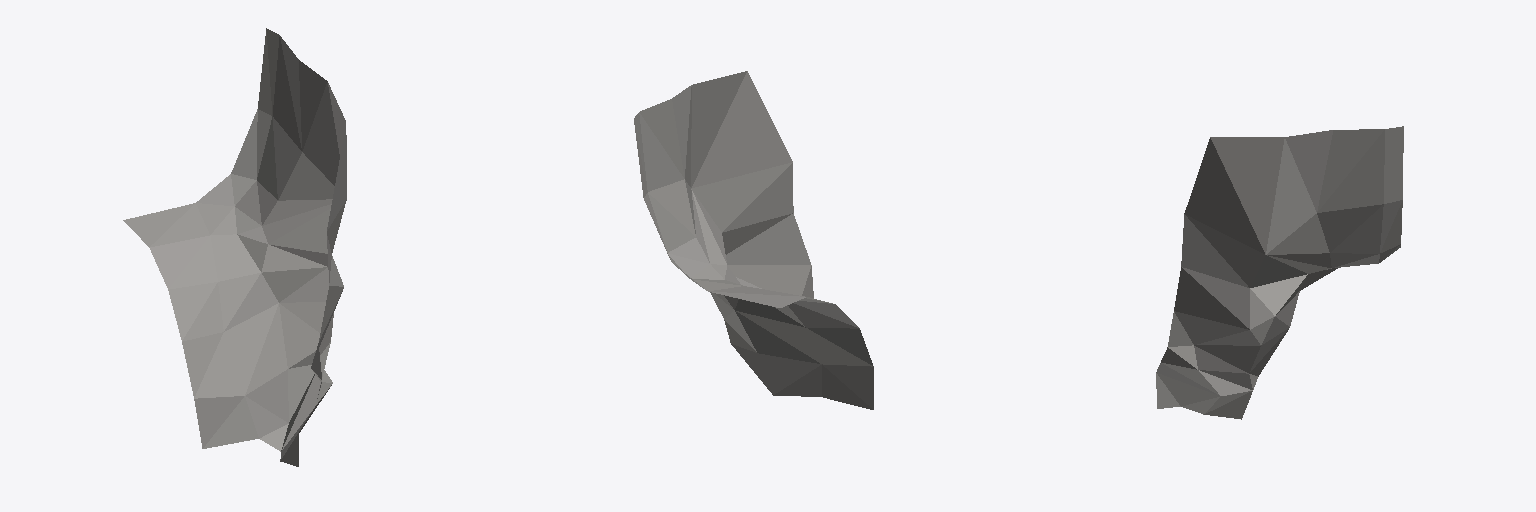
The model's file is Cave_Cliff_Terrain_Entrance_Round_TopALTERNATIVE.obj.
The picture shows the model from 3 angles: view 1: azimuth 30°, elevation 25°; view 2: azimuth 150°, elevation 25°; view 3: azimuth 270°, elevation 25°; orthographic projection.
Visible parts, largest first — view 1: object1.004; view 2: object1.004; view 3: object1.004.
Part boxes in pixels (bbox=[...]): object1.004: bbox=[123, 28, 346, 466]; object1.004: bbox=[634, 71, 873, 409]; object1.004: bbox=[1156, 126, 1403, 419].
Bounding box in the file's own units: 1.12 × 2.11 × 1.44.